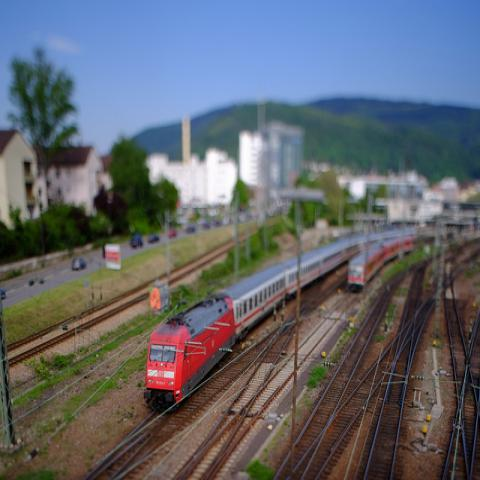car: (71, 256, 88, 271), (130, 238, 144, 249), (223, 215, 235, 225), (146, 235, 160, 243), (185, 226, 196, 235), (201, 221, 210, 230), (167, 230, 176, 239), (0, 290, 6, 300), (214, 220, 221, 227)
